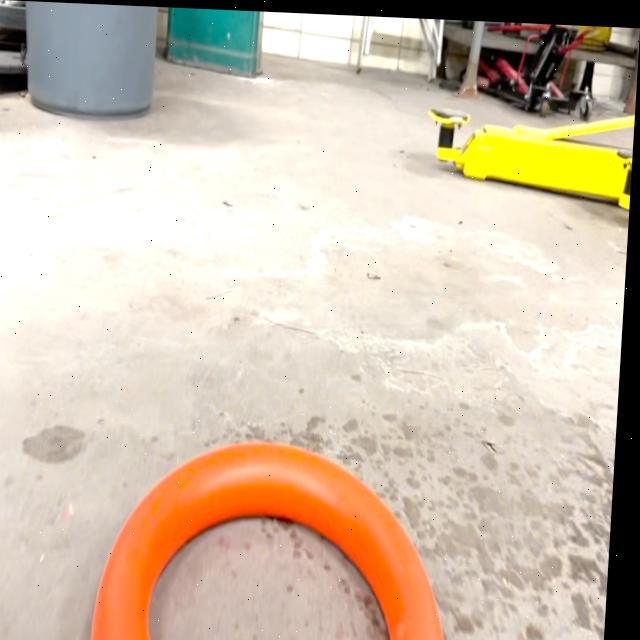note: (103, 430, 463, 640)
